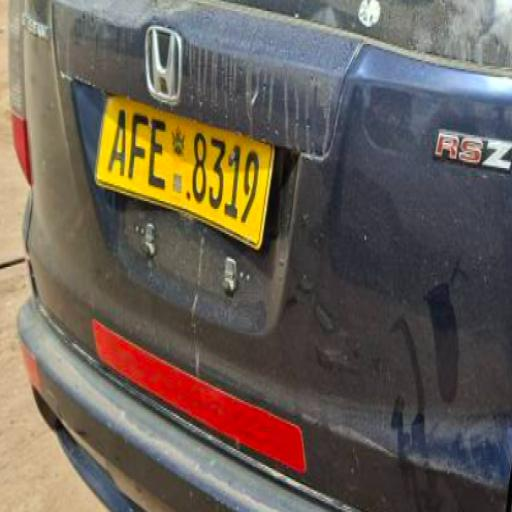number-plates: (104, 87, 258, 225)
